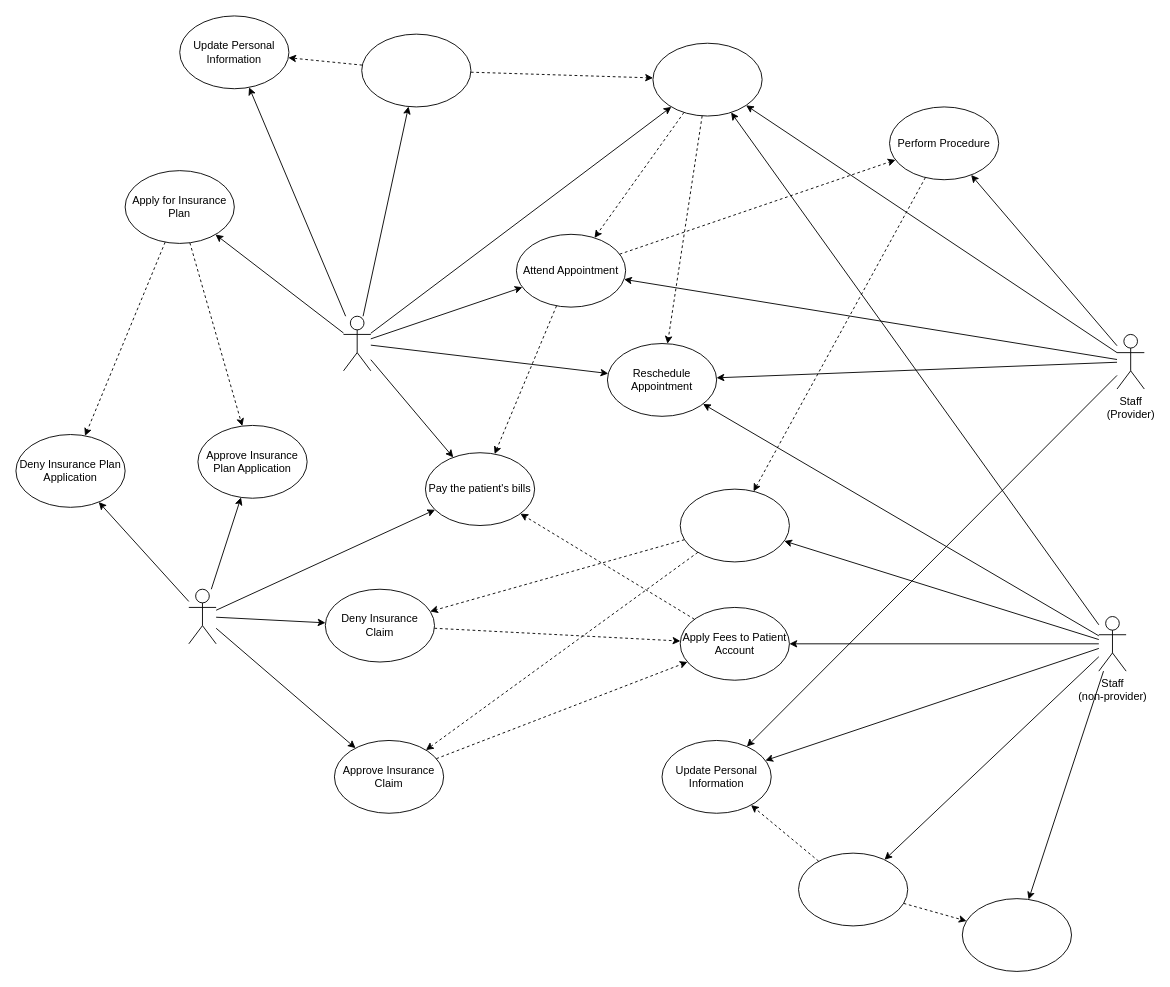
The diagram is 1170 pixels wide and 987 high, and some of its shapes have lost their labels. Here are the shapes that lost their labels. From the top down, the centre of each, then its label:
At point (416, 70): "Enter the System/Make an account".
At point (707, 79): "Schedule Appointment".
At point (357, 343): "Patient".
At point (734, 525): "Submit Insurance Claim".
At point (202, 616): "Insurance Agency".
At point (853, 889): "Enter Staff into system".
At point (1016, 934): "Update Staff Role".
